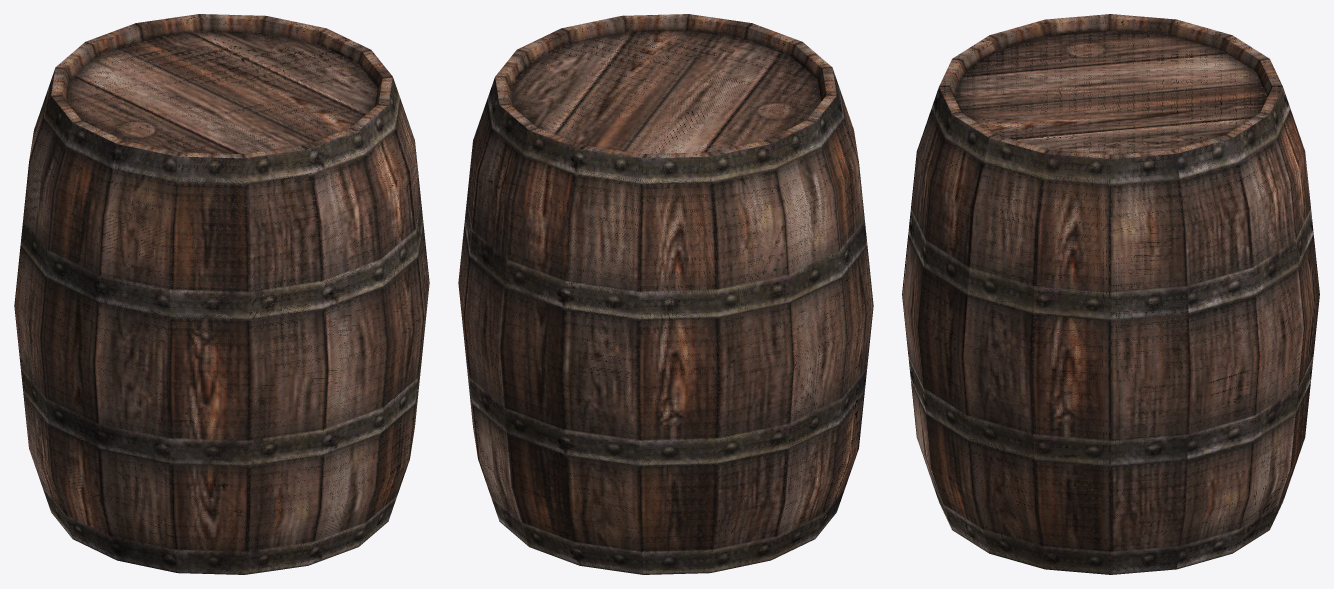
The model's file is Barrel.fbx.
3 renders of one model, left to right at view 1: azimuth 30°, elevation 25°; view 2: azimuth 150°, elevation 25°; view 3: azimuth 270°, elevation 25°, orthographic.
Parts seen in each view (by area): view 1: Model; view 2: Model; view 3: Model.
Boxes of the visible parts, left/top/right/bottom form: Model: left=14, top=14, right=429, bottom=574; Model: left=458, top=14, right=873, bottom=574; Model: left=902, top=14, right=1319, bottom=574.
Size of the model in its own units: 28.7 by 31.5 by 28.7.
